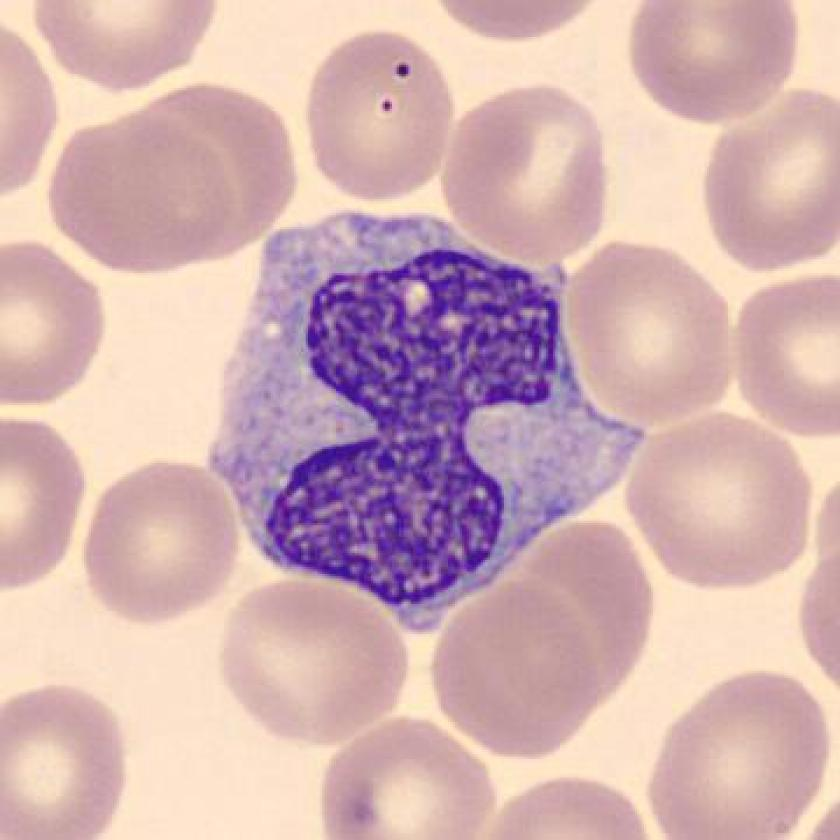monocyte: (199, 196, 659, 631)
